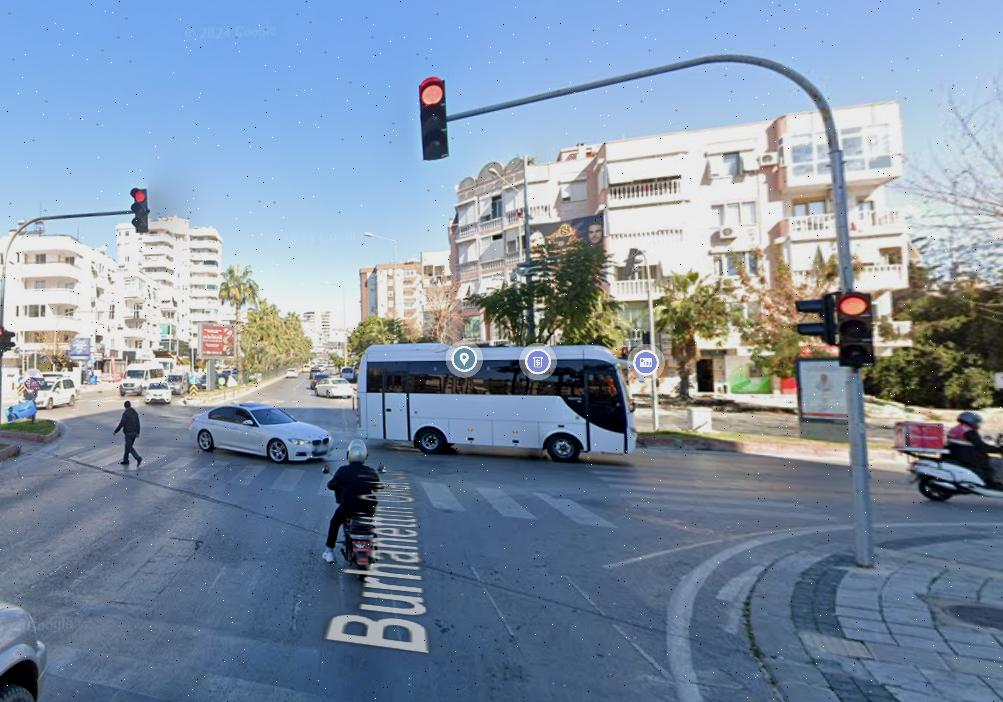redlight: (839, 292, 876, 374), (416, 80, 449, 159), (129, 185, 150, 230)
